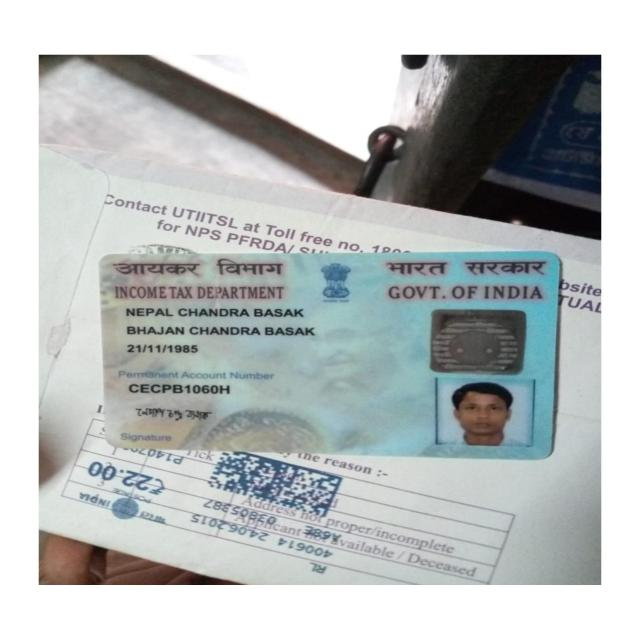pan_card: (101, 253, 554, 453)
